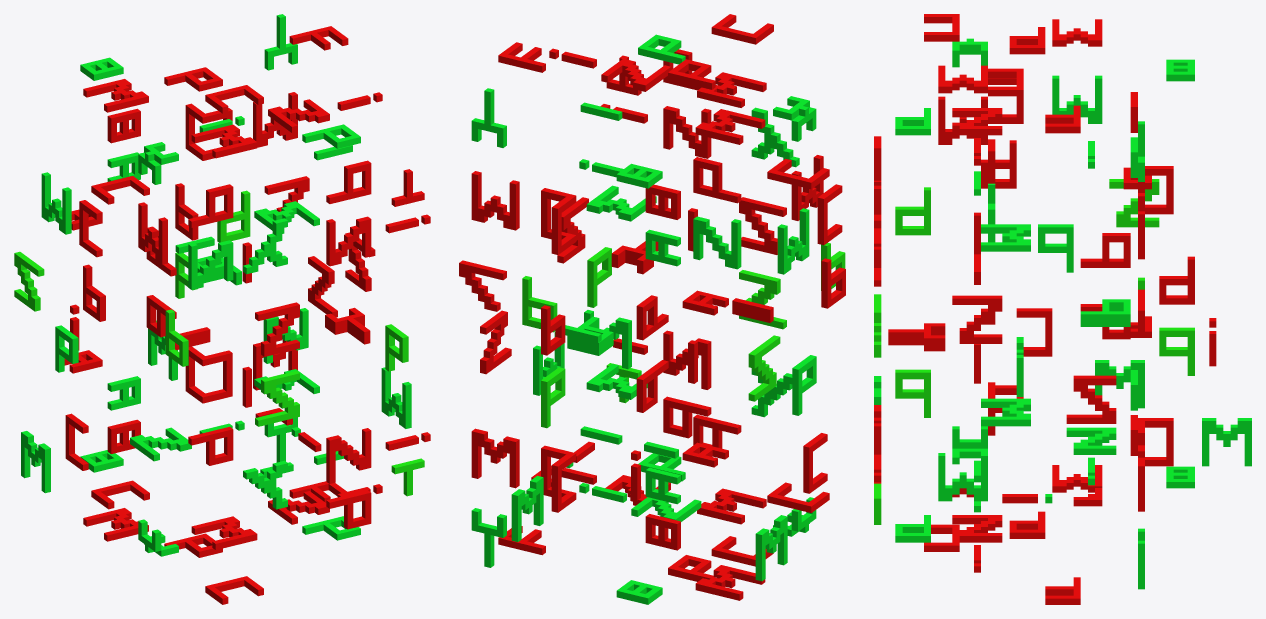
Rendered from CodeRed-1.obj.
3 renders of one model, left to right at view 1: azimuth 30°, elevation 25°; view 2: azimuth 150°, elevation 25°; view 3: azimuth 270°, elevation 25°, orthographic. The views are drawn at different scales.
Size of the model in its own units: 4.9 by 8 by 5.3.
1 material, 1 textured.
